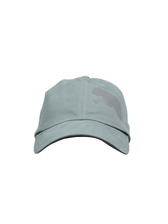other: (31, 75, 138, 156)
